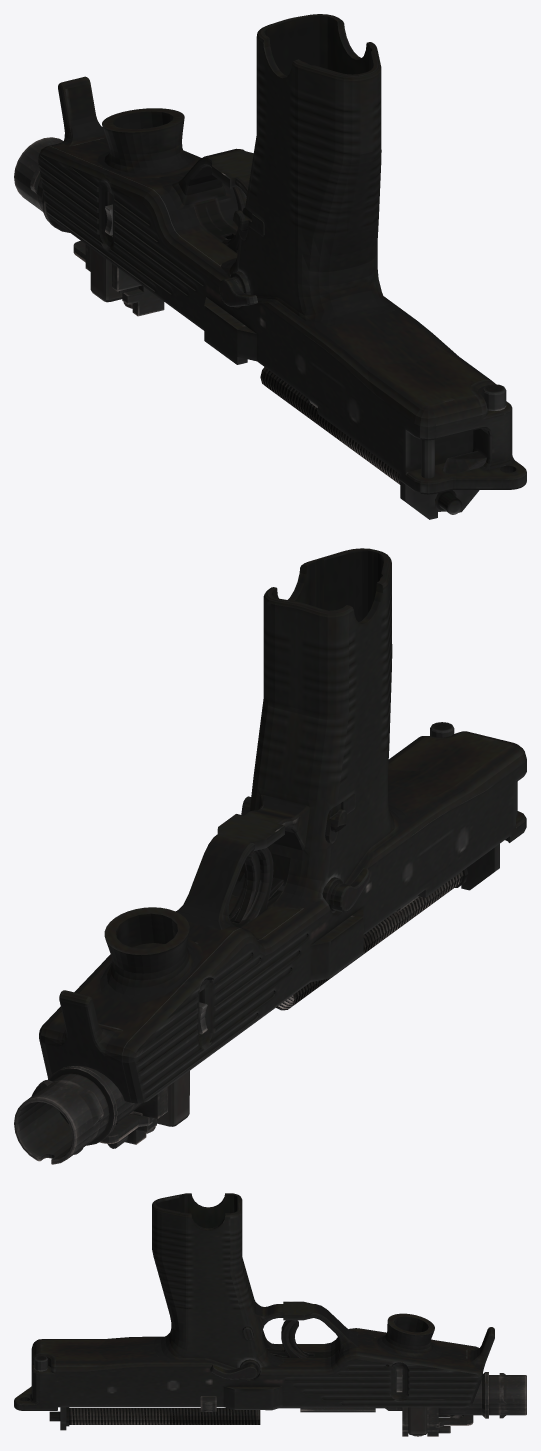
3 views of the same model, one above another, from view 1: azimuth 30°, elevation 25°; view 2: azimuth 150°, elevation 25°; view 3: azimuth 270°, elevation 25° (orthographic). The views are drawn at different scales.
Parts seen in each view (by area): view 1: TW_5de7bd7bfd6b4e6e2276dc25_PZ_Import; view 2: TW_5de7bd7bfd6b4e6e2276dc25_PZ_Import; view 3: TW_5de7bd7bfd6b4e6e2276dc25_PZ_Import.
Boxes of the visible parts, x1=… form: TW_5de7bd7bfd6b4e6e2276dc25_PZ_Import: x1=14, y1=14, x2=526, y2=519; TW_5de7bd7bfd6b4e6e2276dc25_PZ_Import: x1=14, y1=548, x2=526, y2=1164; TW_5de7bd7bfd6b4e6e2276dc25_PZ_Import: x1=14, y1=1193, x2=526, y2=1436.
Bounding box in the file's own units: 0.0277 × 0.1751 × 0.087.
Materials: 1 (1 with a texture image).
